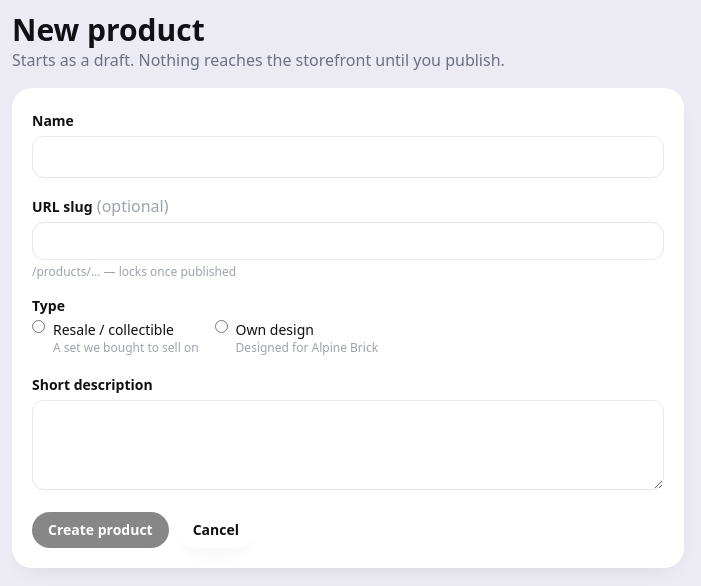
Test: ProductForm › requires a type before creating
The image size is (701, 586).
Type "Castle Set" into the field labelled "Name" at [348, 157], box 32,136 -> 664,178
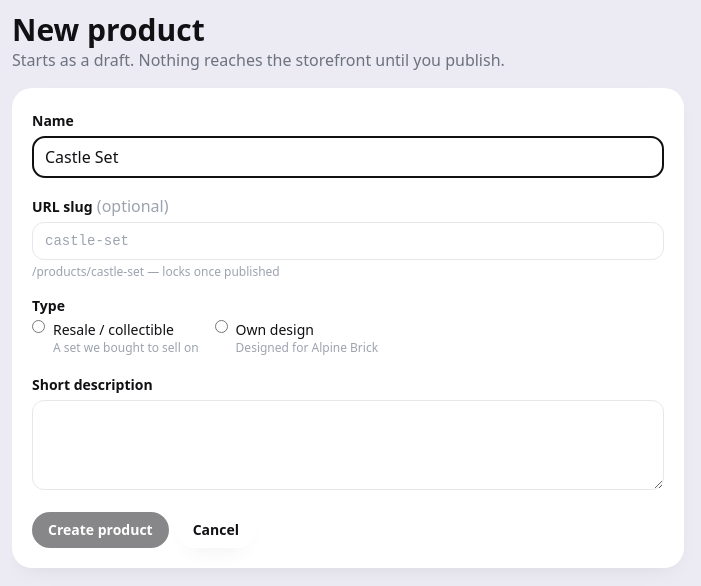
Check: the button "Create product" is disabled, box 32,512 -> 169,548
Click the radio button labelled "Resale / collectible A set we bought to sell on" at [38, 326], box 32,320 -> 45,333
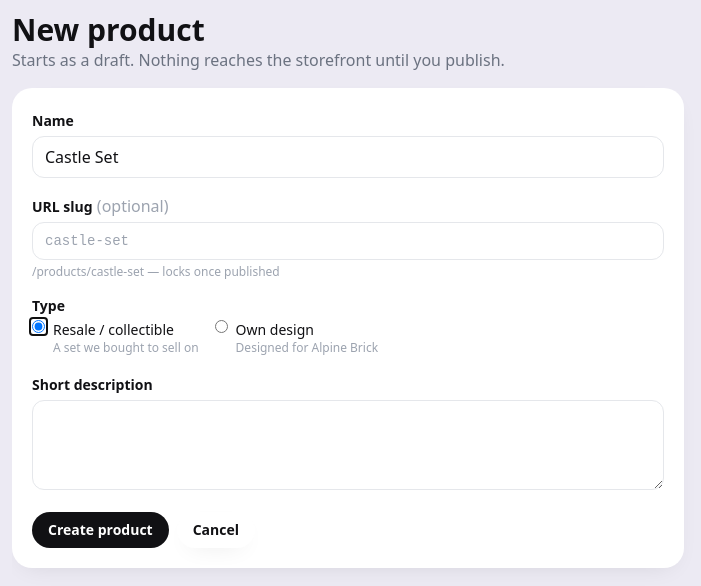
Check: the button "Create product" is enabled, box 32,512 -> 169,548
